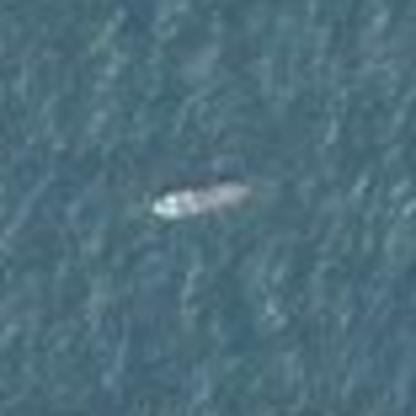ship: (138, 168, 270, 230)
